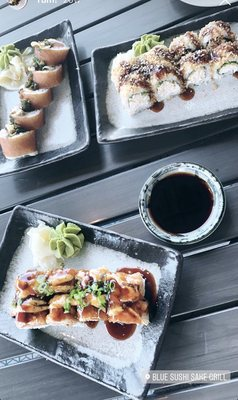sushi: (138, 161, 226, 245)
